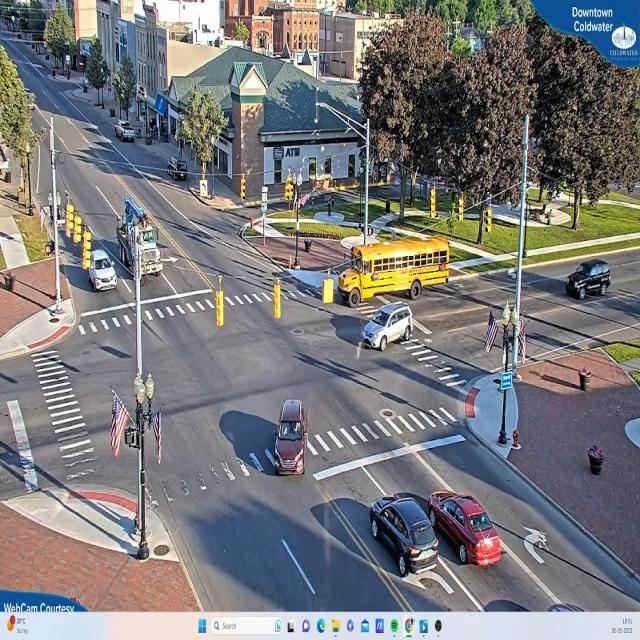bus: (338, 239, 452, 308)
car: (427, 491, 506, 569), (369, 493, 442, 577), (362, 300, 413, 352), (272, 399, 306, 475), (565, 260, 611, 300), (88, 249, 116, 302), (117, 122, 137, 144)
truck: (115, 190, 162, 291)
